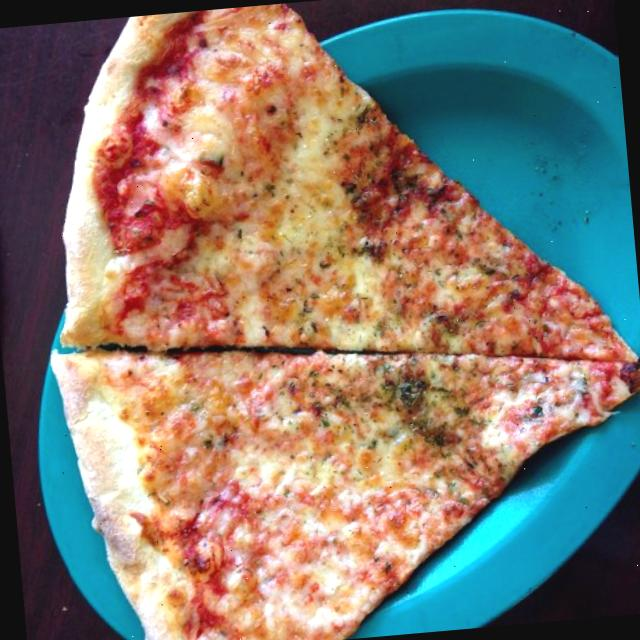pizza: (51, 2, 640, 640)
